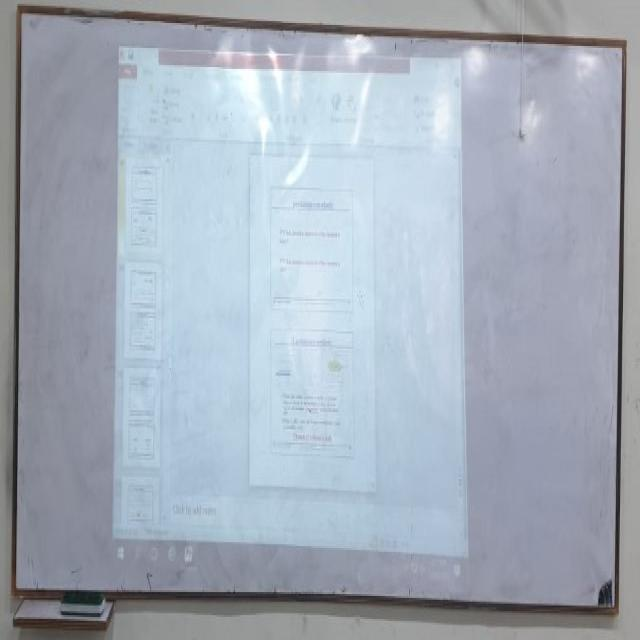Slide: (110, 40, 469, 600)
White-board: (17, 3, 623, 612)
